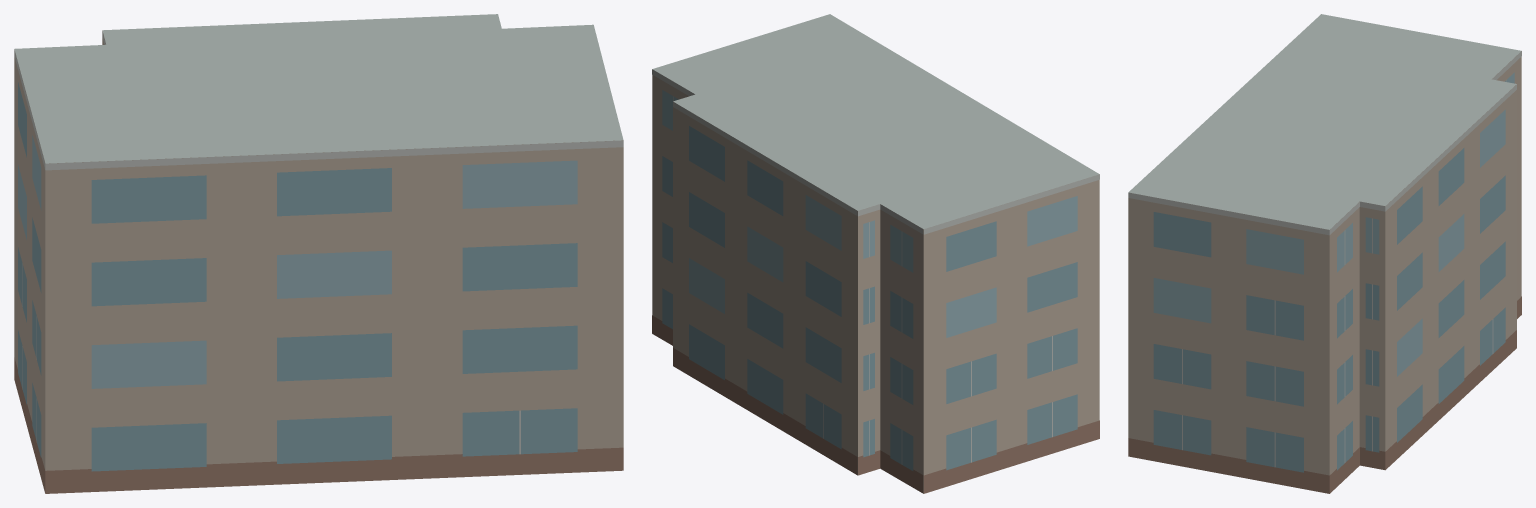
File: survey-upis-32972191.glb
3 renders of one model, left to right at view 1: azimuth 30°, elevation 25°; view 2: azimuth 150°, elevation 25°; view 3: azimuth 270°, elevation 25°, orthographic. The views are drawn at different scales.
Visible parts, largest first — view 1: survey-upis-32972191.tmp; view 2: survey-upis-32972191.tmp; view 3: survey-upis-32972191.tmp.
Boxes of the visible parts, x1,y1,x2,y2 form: survey-upis-32972191.tmp: (14, 14, 623, 493); survey-upis-32972191.tmp: (652, 14, 1099, 493); survey-upis-32972191.tmp: (1128, 14, 1521, 493).
Size of the model in its own units: 20.71 by 11.8 by 15.95.
